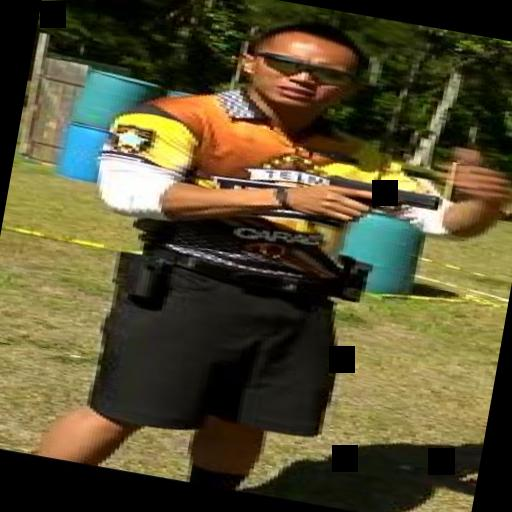Handgun: (304, 169, 447, 243)
